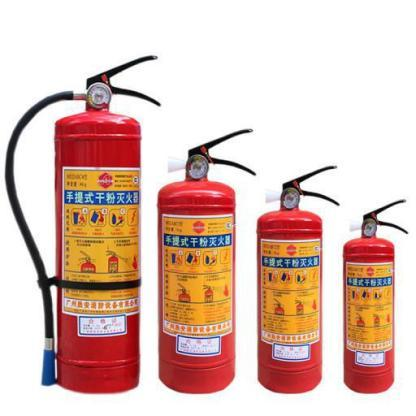Fire Extinguisher: (4, 39, 151, 407), (156, 111, 254, 406), (258, 150, 342, 396), (346, 144, 414, 402)
